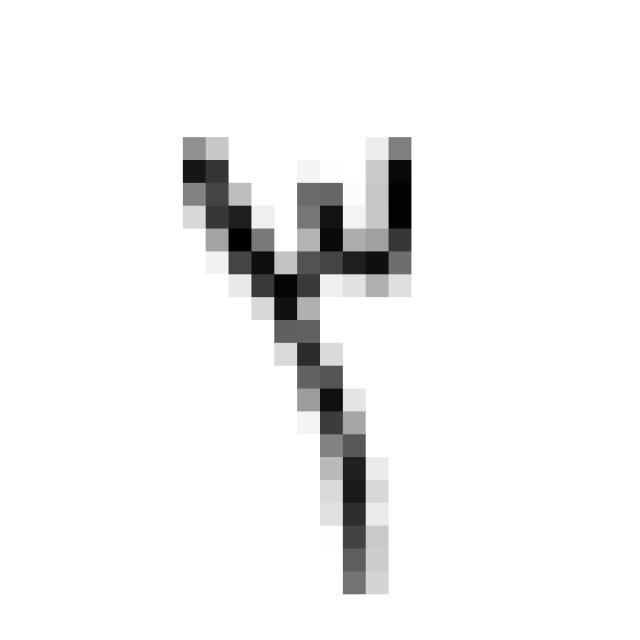3 -three-: (151, 103, 438, 617)
